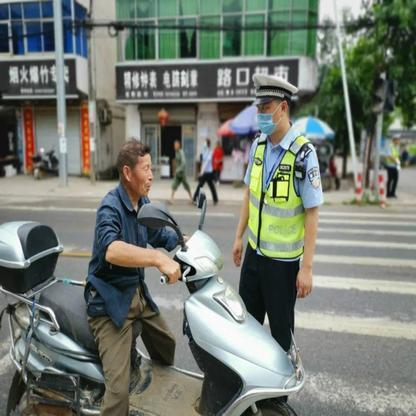target: (4, 140, 300, 414)
